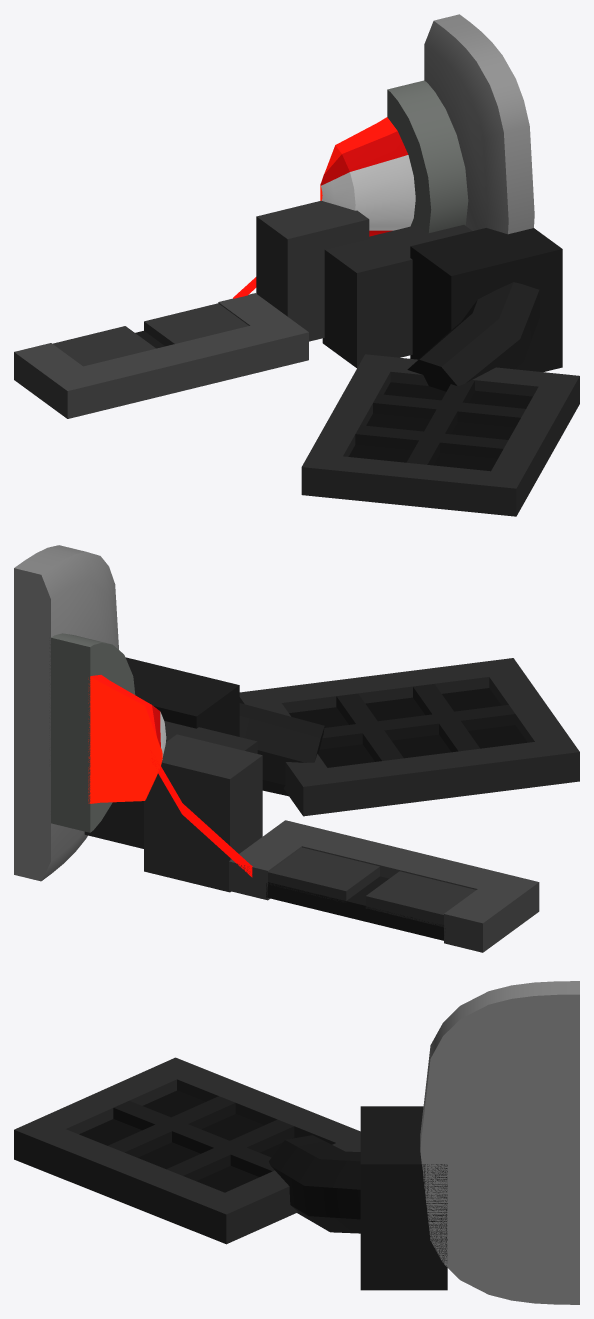
Rendered from newshl-49.glb.
3 views of the same model, one above another, from view 1: azimuth 30°, elevation 25°; view 2: azimuth 150°, elevation 25°; view 3: azimuth 270°, elevation 25° (orthographic). The views are drawn at different scales.
Visible parts, largest first — view 1: newshl-49; view 2: newshl-49; view 3: newshl-49.
Part boxes in pixels (left/top/right/bottom): newshl-49: left=14, top=14, right=579, bottom=516; newshl-49: left=14, top=545, right=579, bottom=952; newshl-49: left=14, top=981, right=579, bottom=1304.
Bounding box in the file's own units: 2 × 1.25 × 2.07.
